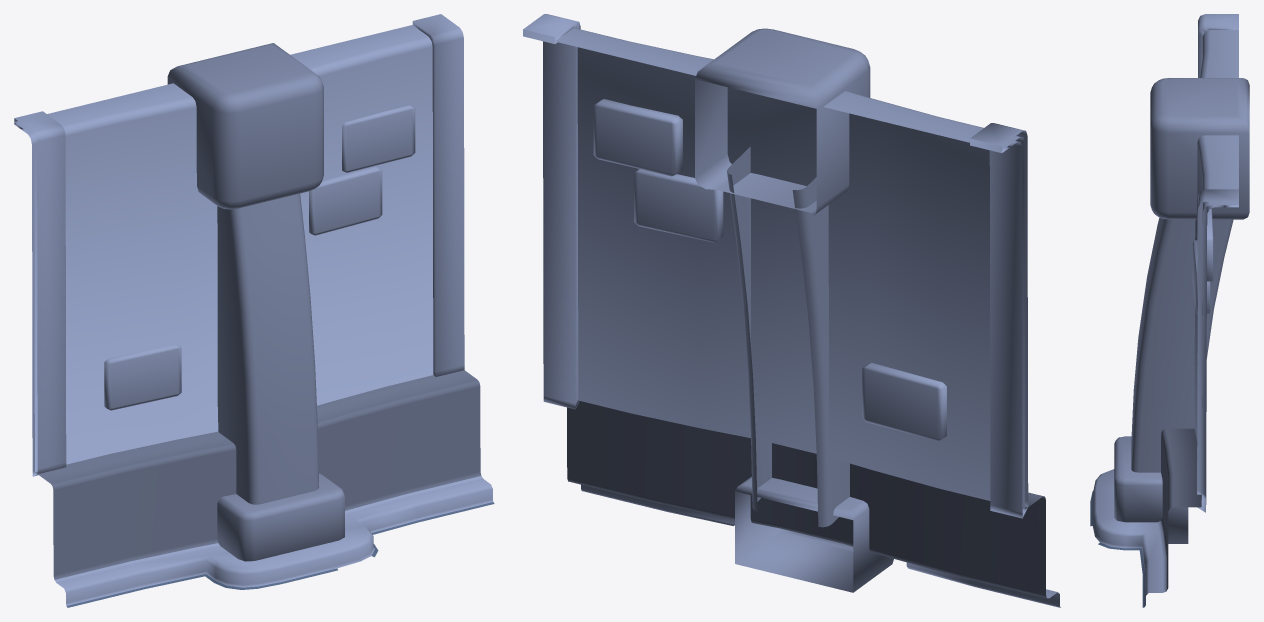
The model's file is 2_Wall_1.glb.
3 renders of one model, left to right at view 1: azimuth 30°, elevation 25°; view 2: azimuth 150°, elevation 25°; view 3: azimuth 270°, elevation 25°, orthographic. The views are drawn at different scales.
Visible parts, largest first — view 1: Cube.025; view 2: Cube.025; view 3: Cube.025.
Part boxes in pixels (x1,y1,x2,y2): Cube.025: [14, 14, 494, 607]; Cube.025: [523, 14, 1060, 607]; Cube.025: [1090, 14, 1249, 607].
Bounding box in the file's own units: 4 × 4.2 × 1.43.
